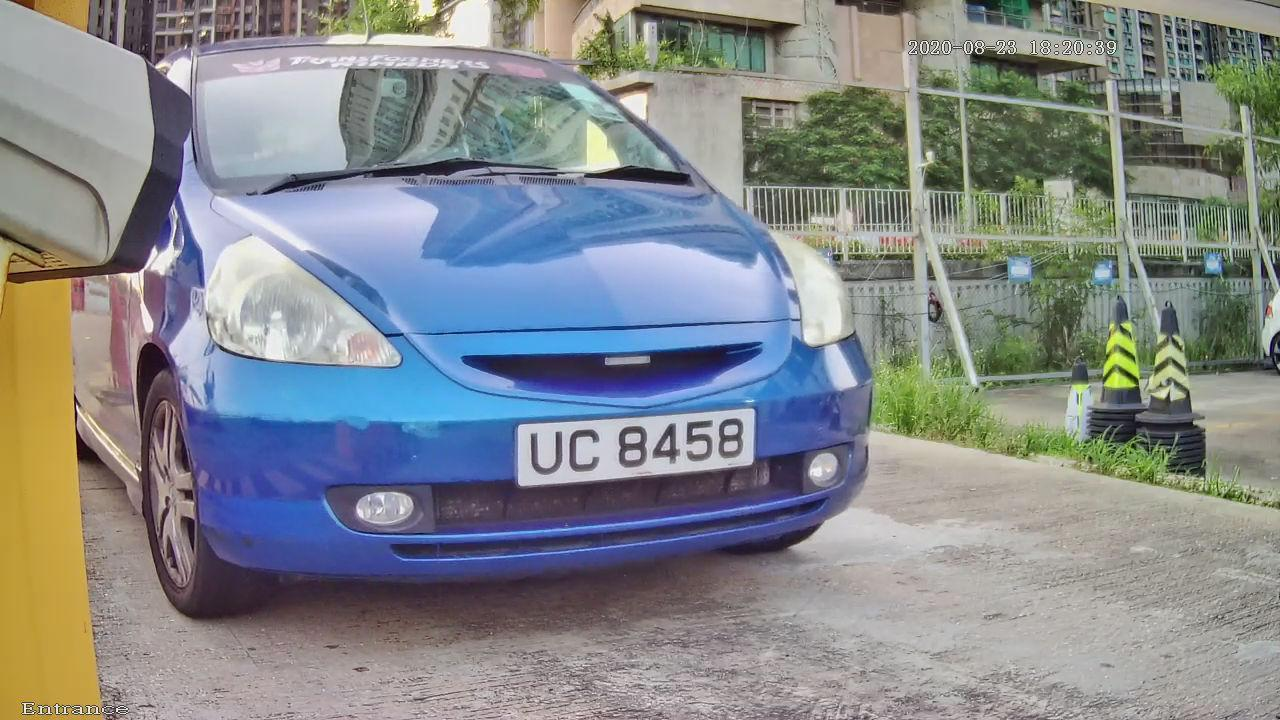Car: (46, 4, 949, 656)
License Plate: (478, 373, 809, 513)
